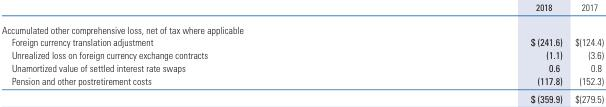table: (1, 0, 602, 104)
table column: (1, 0, 368, 104), (368, 0, 568, 104), (568, 0, 602, 104)
table column header: (1, 0, 602, 17)
table projected row header: (1, 17, 602, 35)
table row: (1, 17, 602, 35), (1, 0, 602, 17), (1, 73, 602, 89), (1, 89, 602, 104), (1, 35, 602, 48), (1, 60, 602, 73), (1, 48, 602, 60)
